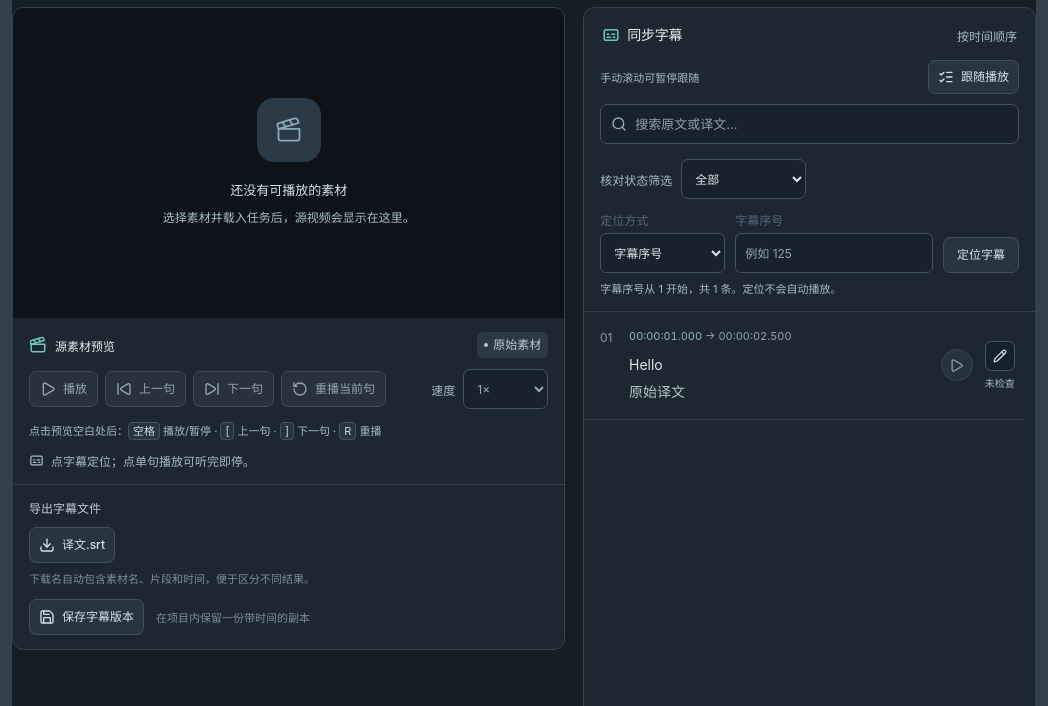
Test case: 连续人工核对 › stays on the final cue and explains when no unchecked cues remain
Click the button named "编辑第 1 句". click: {"x": 1000, "y": 356}
box: [985, 340, 1015, 370]
(page scrolled)
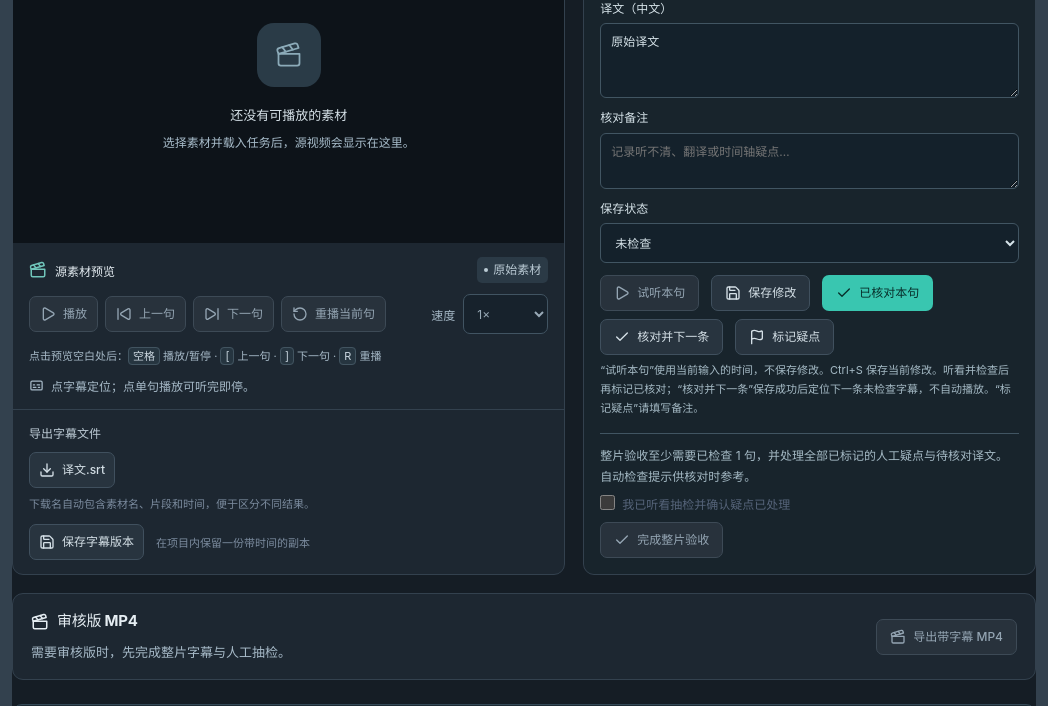
Click the button "核对并下一条". click: {"x": 662, "y": 337}
box: [600, 319, 723, 355]
(page scrolled)
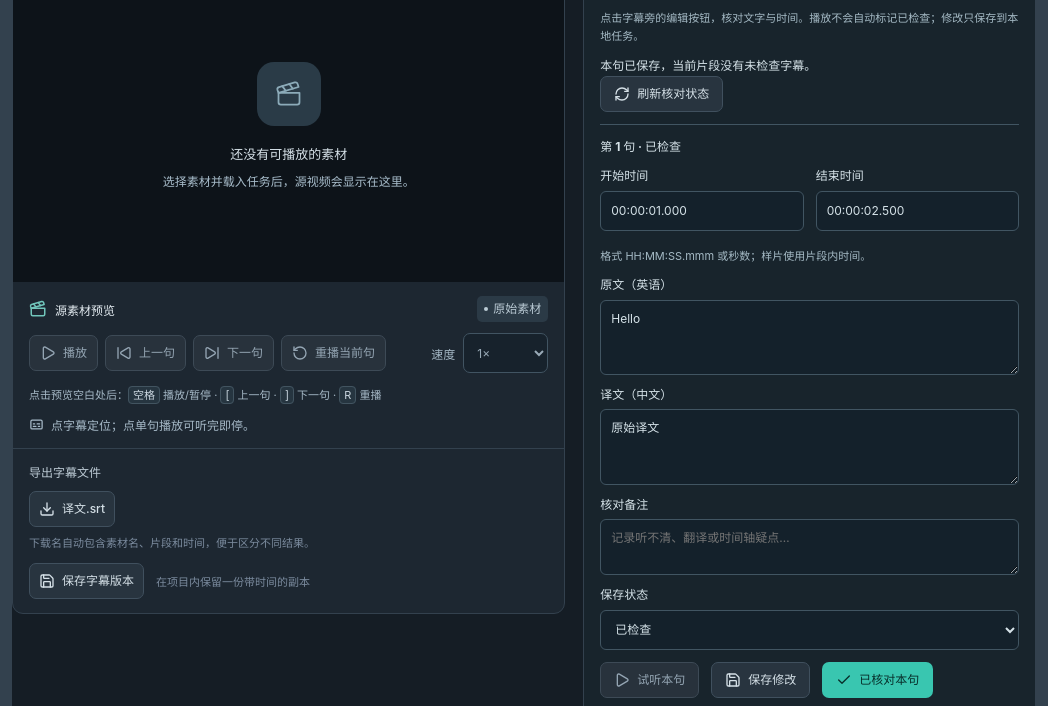
Check: the text box labelled "原文（英语）" holds "Hello", box [600, 300, 1019, 375]
Check: the text "本句已保存，当前片段没有未检查字幕。" is shown, box [600, 58, 816, 73]
